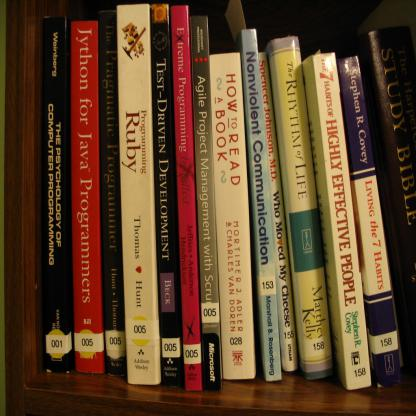book: (0, 0, 416, 416), (271, 32, 338, 386), (340, 50, 407, 390), (208, 52, 262, 380), (364, 24, 416, 363), (240, 26, 284, 380), (258, 44, 302, 374), (168, 2, 204, 392), (119, 2, 150, 387), (70, 20, 104, 368), (96, 9, 127, 379), (40, 16, 72, 373), (192, 14, 222, 389), (151, 2, 179, 386)
